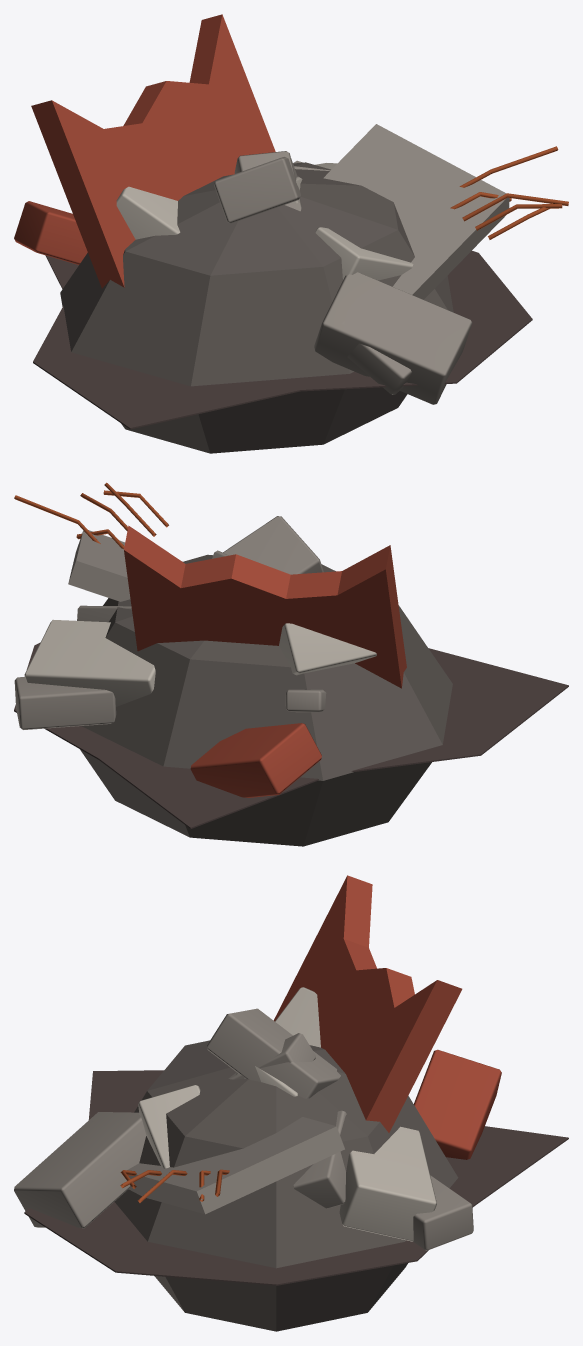
File: city_rubble_b.glb
3 renders of one model, top to bottom at view 1: azimuth 30°, elevation 25°; view 2: azimuth 150°, elevation 25°; view 3: azimuth 270°, elevation 25°, orthographic.
Visible parts, largest first — view 1: RubbleB; view 2: RubbleB; view 3: RubbleB.
Boxes of the visible parts, x1,y1,x2,y2 form: RubbleB: [14, 14, 568, 453]; RubbleB: [14, 482, 568, 846]; RubbleB: [14, 875, 568, 1331].
Bounding box in the file's own units: 5.6 × 3.77 × 5.48.
